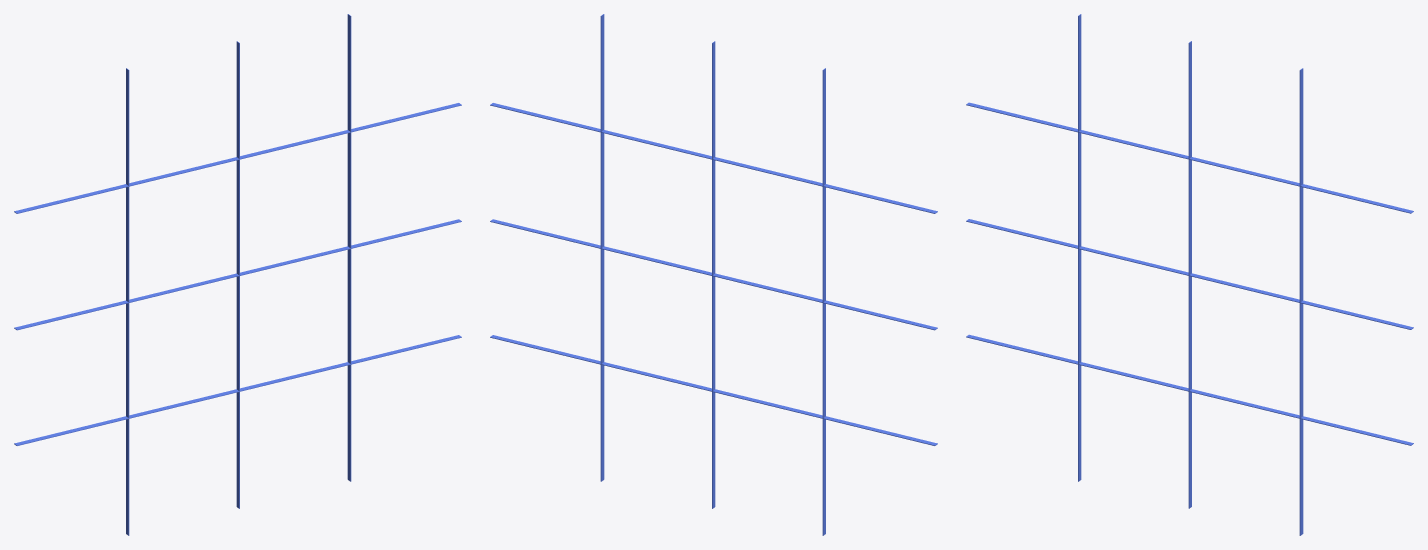
File: fourFloor.fbx
3 views of the same model, side by side, from view 1: azimuth 30°, elevation 25°; view 2: azimuth 150°, elevation 25°; view 3: azimuth 330°, elevation 25° (orthographic).
Parts seen in each view (by area): view 1: Layer 03; view 2: Layer 03; view 3: Layer 03.
Part boxes in pixels (left/top/right/bottom): Layer 03: left=14, top=14, right=461, bottom=535; Layer 03: left=490, top=14, right=937, bottom=535; Layer 03: left=966, top=14, right=1413, bottom=535.
Size of the model in its own units: 180 by 180 by 2.
